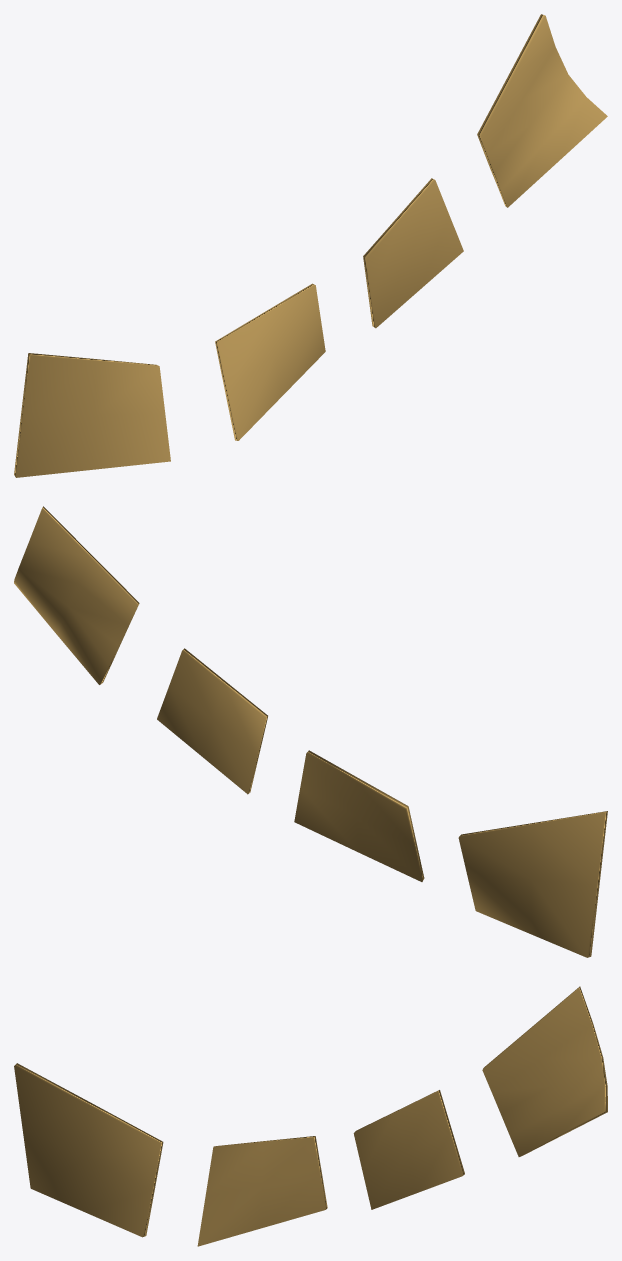
The picture shows the model from 3 angles, top to bottom: view 1: azimuth 30°, elevation 25°; view 2: azimuth 150°, elevation 25°; view 3: azimuth 330°, elevation 25°; orthographic projection.
Visible parts, largest first — view 1: 左侧跖骨深横韧带; view 2: 左侧跖骨深横韧带; view 3: 左侧跖骨深横韧带.
Boxes of the visible parts, x1,y1,x2,y2 form: 左侧跖骨深横韧带: [14, 14, 607, 477]; 左侧跖骨深横韧带: [14, 506, 607, 957]; 左侧跖骨深横韧带: [14, 986, 607, 1246].
Bounding box in the file's own units: 0.0797 × 0.0424 × 0.00971.
